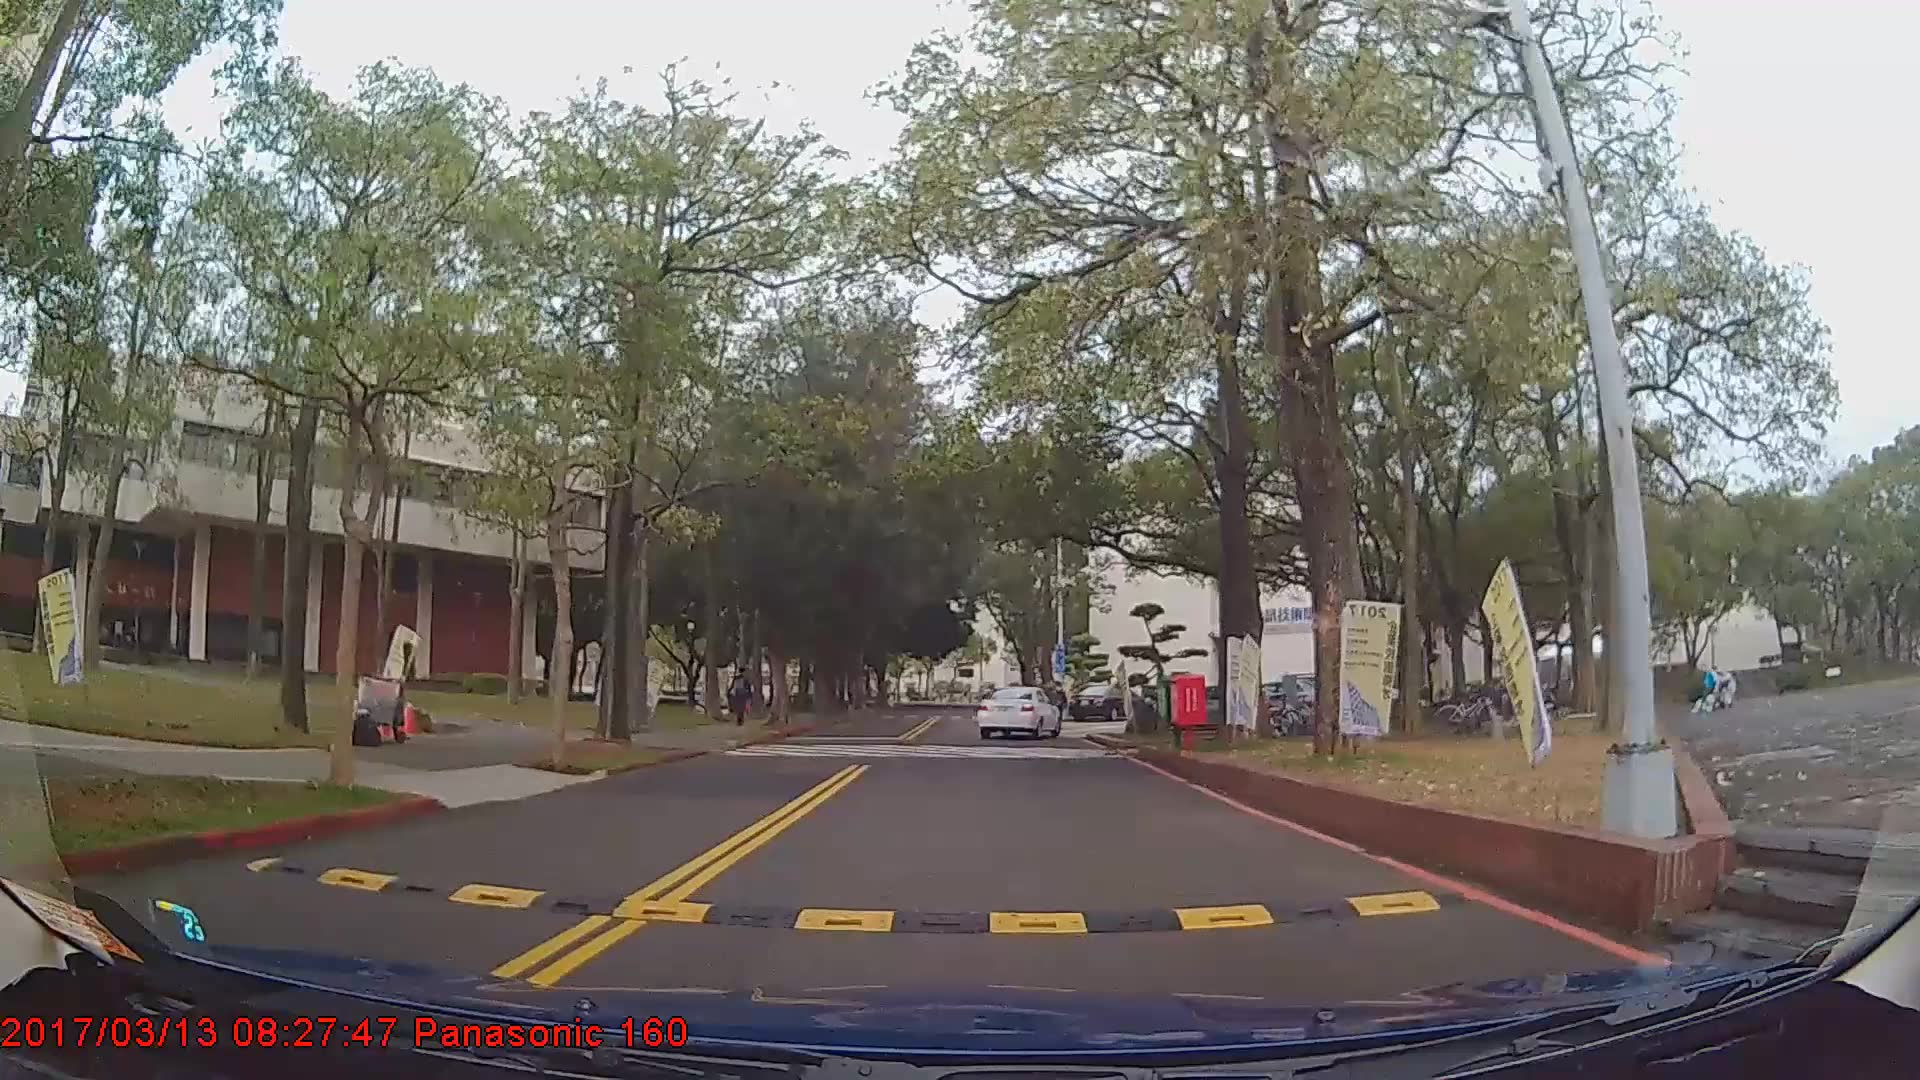pedestrian: (725, 665, 757, 728)
vehicle: (974, 684, 1061, 740), (1068, 682, 1139, 720)
